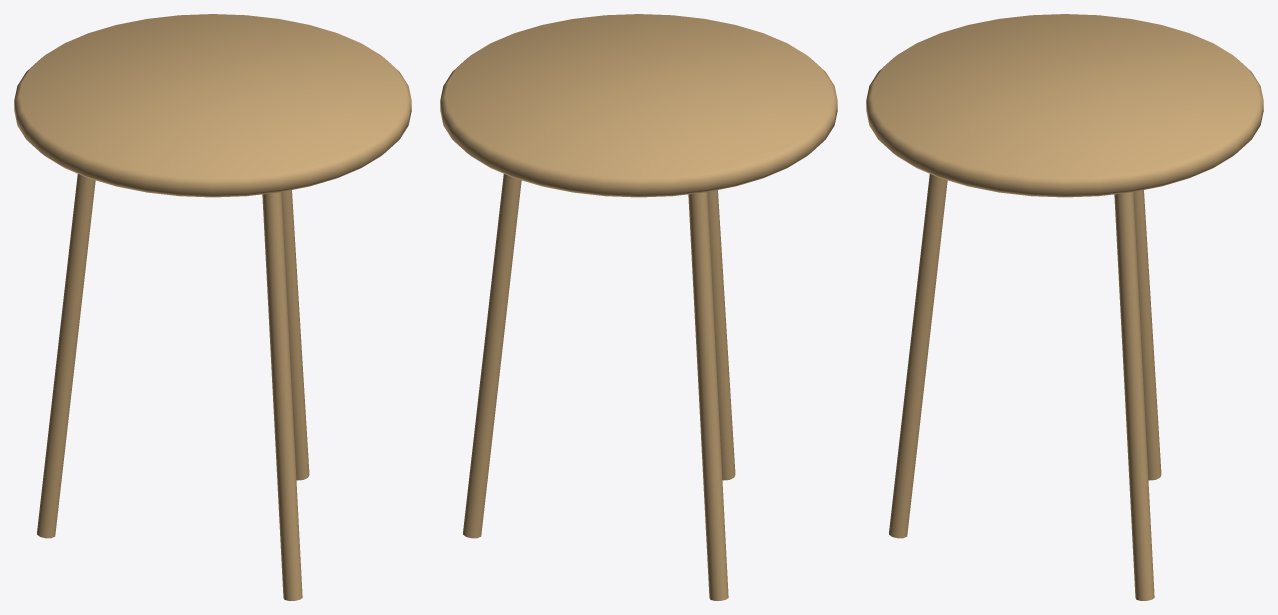
The model's file is i_table_13.glb.
The picture shows the model from 3 angles, left to right: view 1: azimuth 30°, elevation 25°; view 2: azimuth 150°, elevation 25°; view 3: azimuth 270°, elevation 25°; orthographic projection.
Parts seen in each view (by area): view 1: o, o.003, o.002, o.001; view 2: o, o.002, o.001, o.003; view 3: o, o.001, o.003, o.002.
Part boxes in pixels (x1=…): o: x1=14, y1=14, x2=411, y2=197; o.003: x1=262, y1=192, x2=302, y2=600; o.002: x1=37, y1=174, x2=95, y2=538; o.001: x1=281, y1=190, x2=309, y2=480; o: x1=440, y1=14, x2=837, y2=197; o.002: x1=688, y1=192, x2=728, y2=600; o.001: x1=463, y1=174, x2=521, y2=538; o.003: x1=707, y1=190, x2=735, y2=480; o: x1=866, y1=14, x2=1263, y2=197; o.001: x1=1114, y1=192, x2=1154, y2=600; o.003: x1=889, y1=174, x2=947, y2=538; o.002: x1=1133, y1=190, x2=1161, y2=480.
Bounding box in the file's own units: 0.45 × 0.5511 × 0.45.
